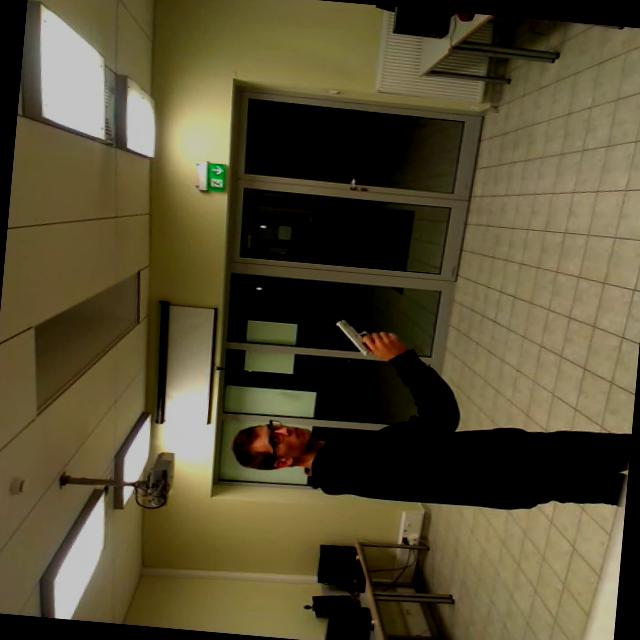handgun: (322, 305, 407, 362)
